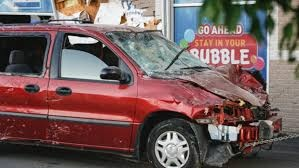Broken-glass: (105, 31, 211, 73)
Dent: (1, 121, 81, 142)
Smashed: (140, 76, 282, 164)
